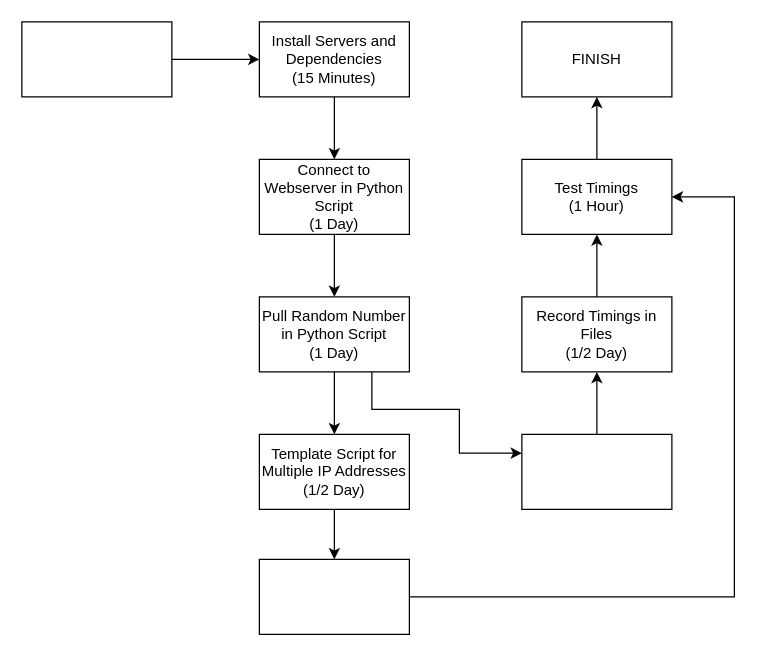
The diagram is 766 pixels wide and 656 high, and some of its shapes have lost their labels. Here are the shapes that lost their labels. From the top down, the centre of each, then its label:
At (x=96, y=59): "START".
At (x=596, y=471): "Introduce Timing in Script to Record Time (1/2 Day)".
At (x=333, y=596): "Introduce .YAML File W/ IPs to Script (1 Day)".
